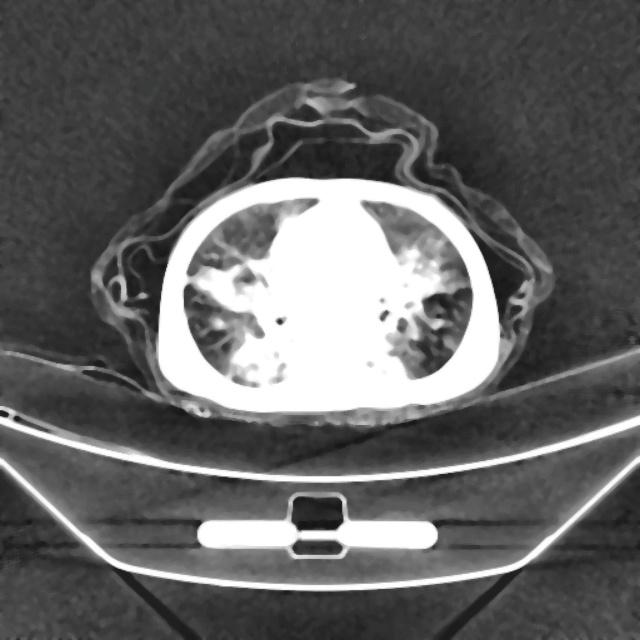covid: (88, 76, 555, 428)
